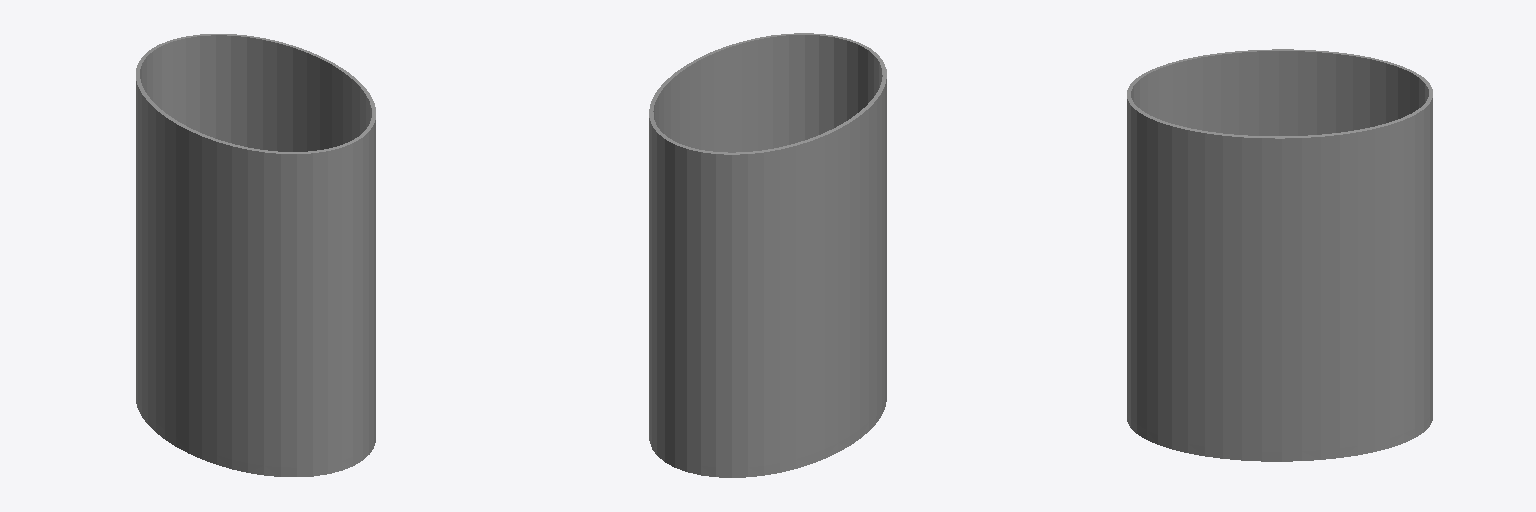
The model's file is Barrier.obj.
3 views of the same model, side by side, from view 1: azimuth 30°, elevation 25°; view 2: azimuth 150°, elevation 25°; view 3: azimuth 270°, elevation 25° (orthographic).
Visible parts, largest first — view 1: Barrier_group1_pTorus1; view 2: Barrier_group1_pTorus1; view 3: Barrier_group1_pTorus1.
Boxes of the visible parts, box(x1,y1,x2,y2) form: Barrier_group1_pTorus1: box(136, 34, 375, 476); Barrier_group1_pTorus1: box(649, 33, 886, 477); Barrier_group1_pTorus1: box(1127, 49, 1432, 461).
Bounding box in the file's own units: 268 × 454 × 389.